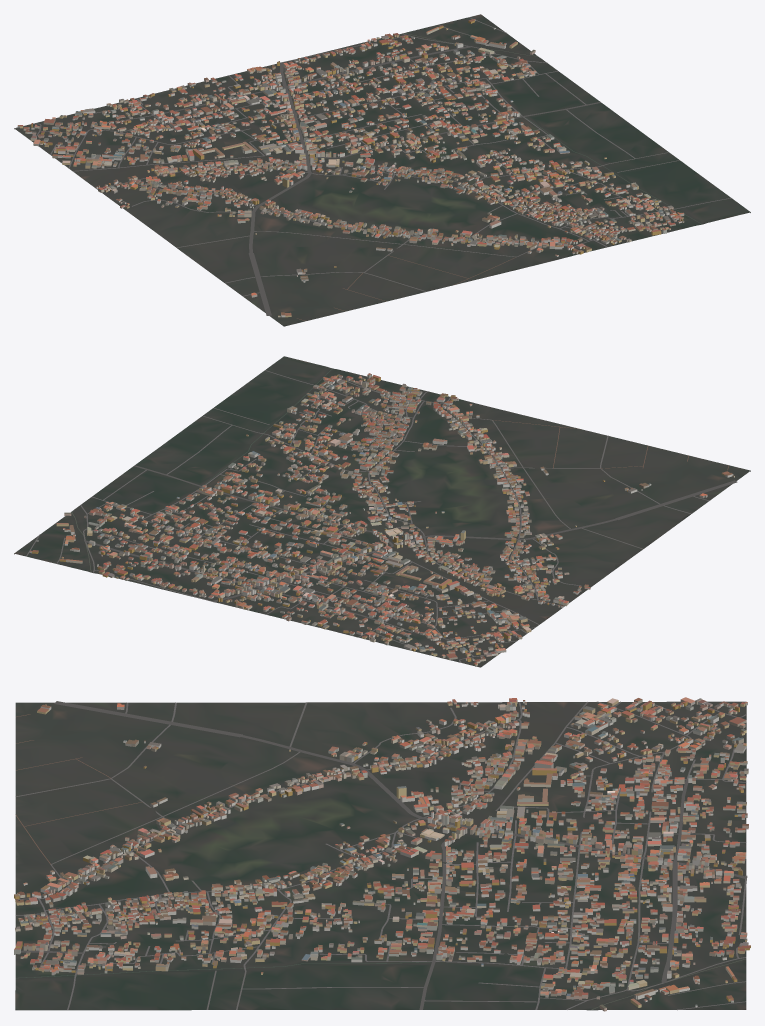
The picture shows the model from 3 angles, top to bottom: view 1: azimuth 30°, elevation 25°; view 2: azimuth 150°, elevation 25°; view 3: azimuth 270°, elevation 25°; orthographic projection. The views are drawn at different scales.
Visible parts, largest first — view 1: ground, buildings, roads; view 2: ground, buildings, roads; view 3: ground, buildings, roads, water.
Part boxes in pixels (<box>): ground: <box>14,14,750,326</box>; buildings: <box>17,19,684,317</box>; roads: <box>14,17,731,321</box>; ground: <box>14,356,750,666</box>; buildings: <box>29,373,734,666</box>; roads: <box>26,370,737,667</box>; ground: <box>15,701,746,1010</box>; buildings: <box>14,697,750,1011</box>; roads: <box>15,701,747,1010</box>; water: <box>16,959,745,1009</box>.
Size of the model in its own units: 1415 by 26.08 by 1414.
